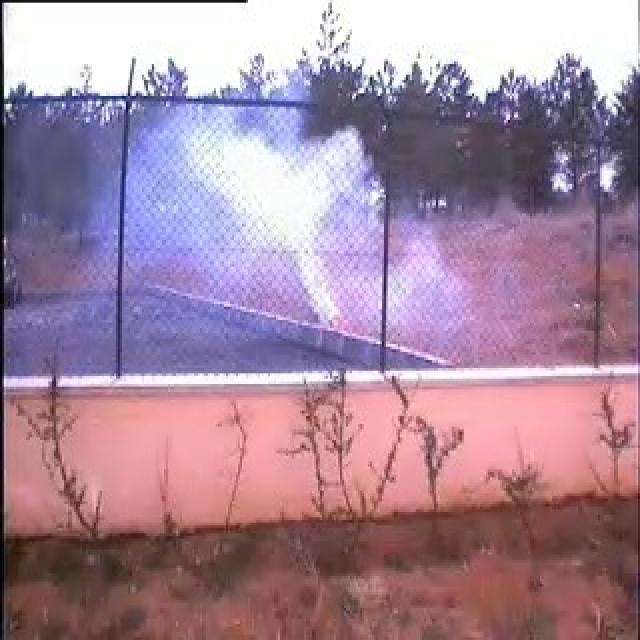smoke: (115, 98, 444, 330)
